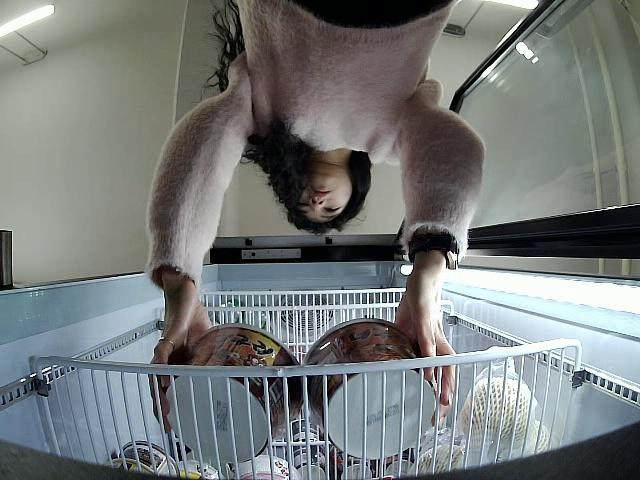05_nuguri_L: (304, 318, 440, 463), (164, 326, 304, 462)
